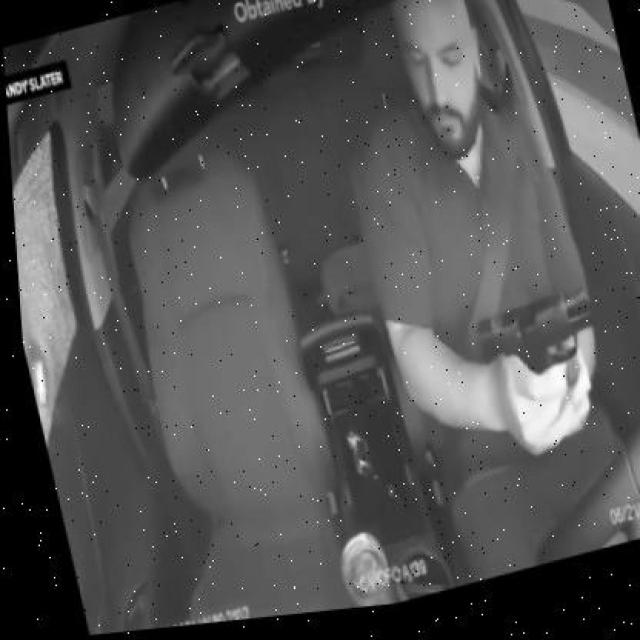weapon: (472, 286, 597, 379)
